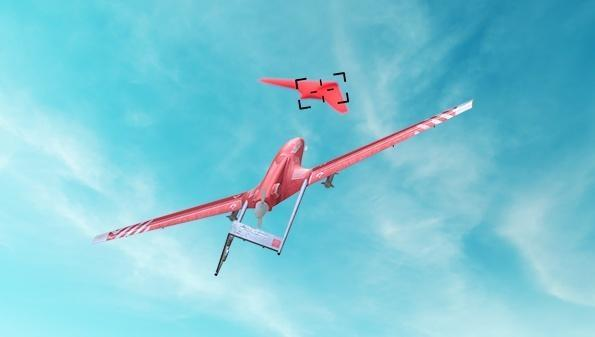Airplane: (90, 98, 487, 278), (255, 68, 363, 120)
